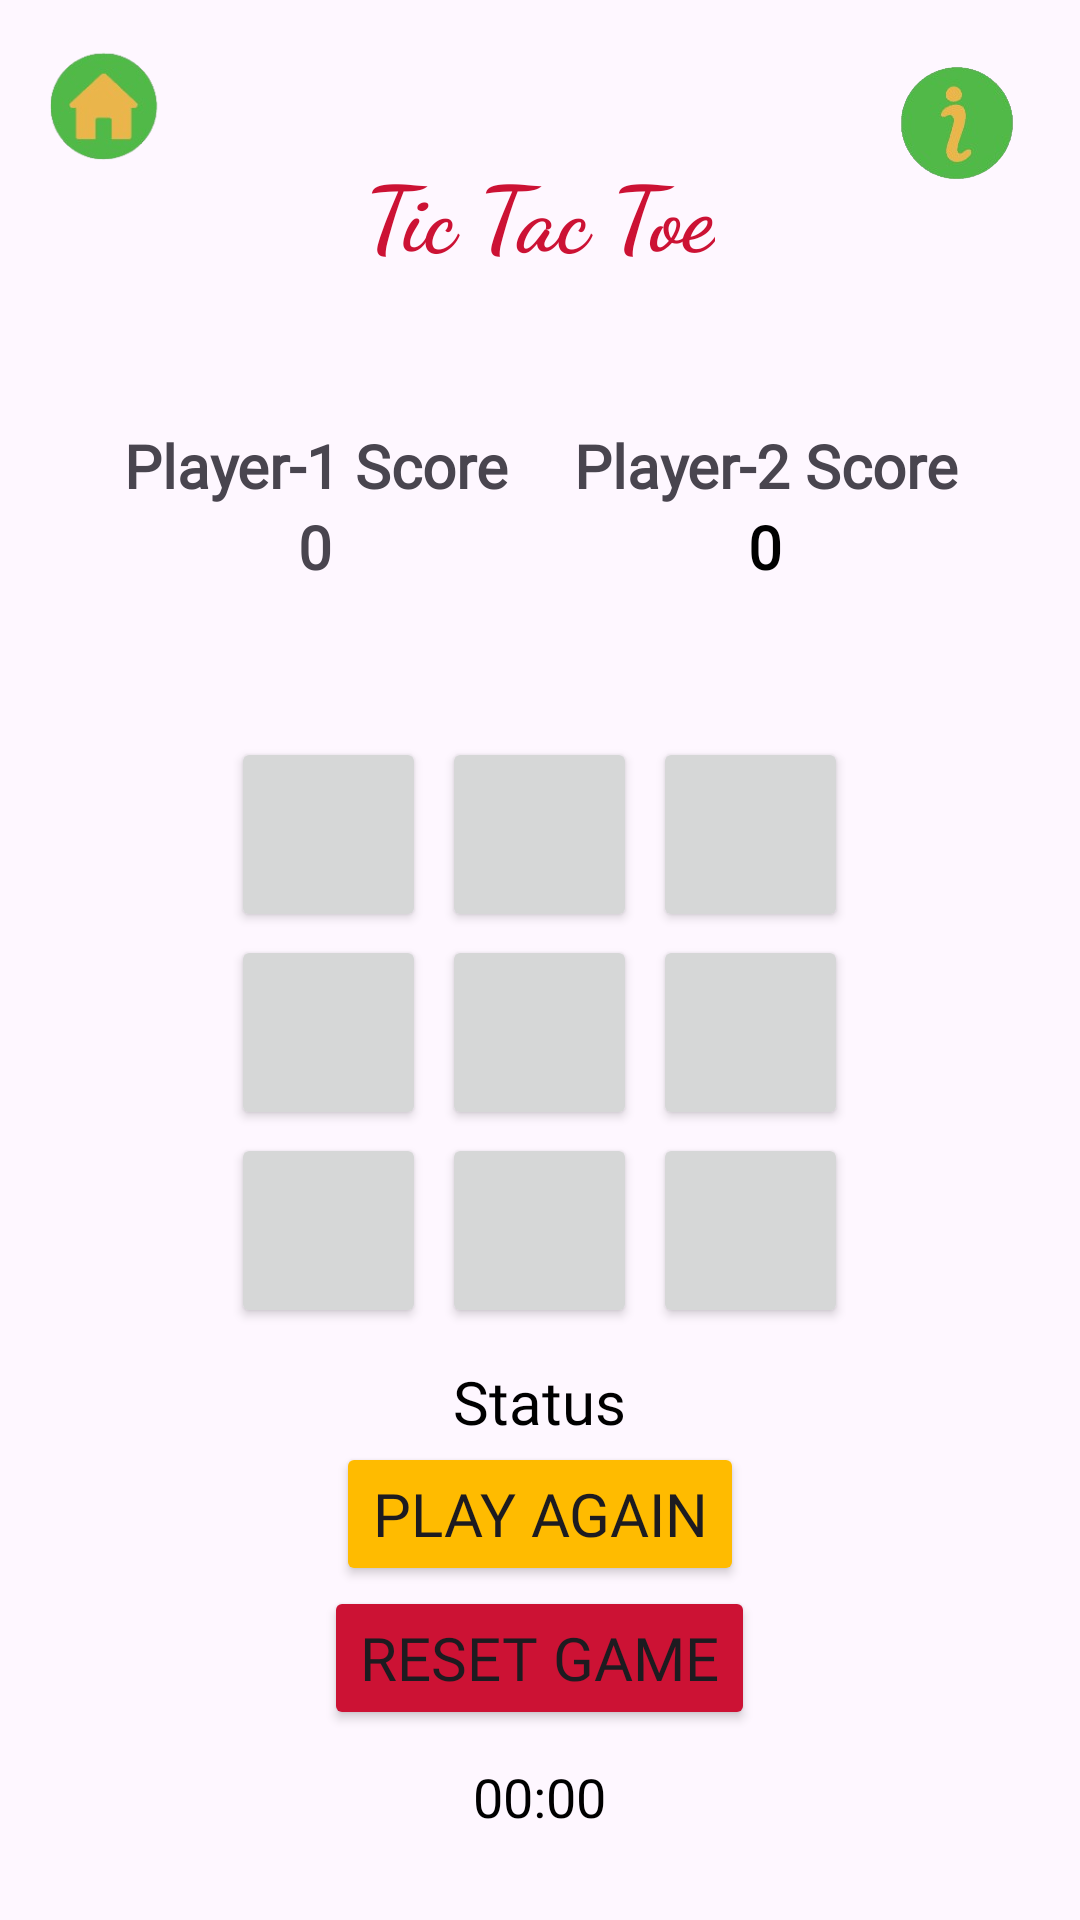

Locate icon controls on the screen. Image size 1080px×1920px, boxes as box=[x1, y1, x2, y2].
Ir para as informações: box=[901, 67, 1013, 179]
Voltar ao menu: box=[50, 53, 157, 160]
